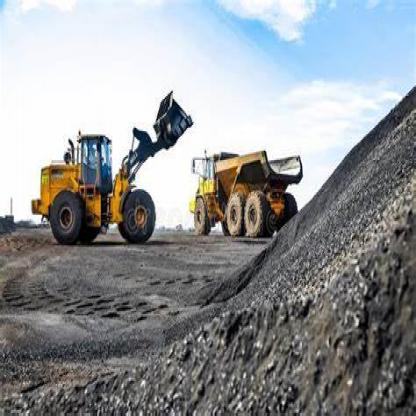bull_dozer/loader/grader: (26, 84, 192, 264)
dump_truck: (183, 136, 303, 242)
